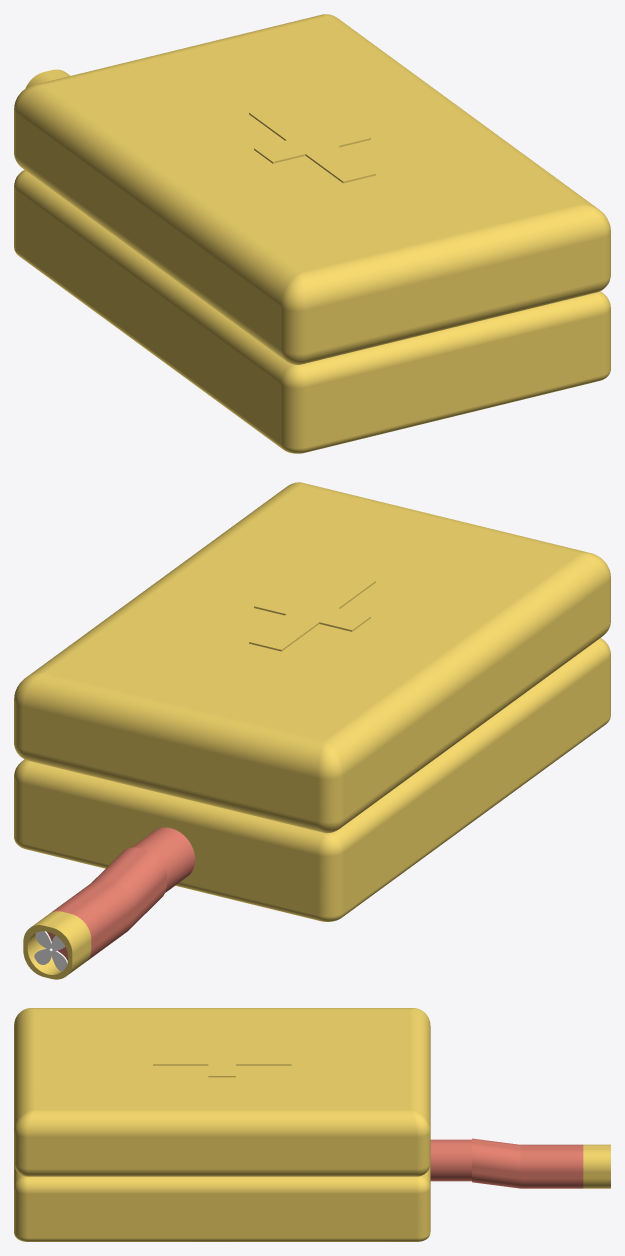
The picture shows the model from 3 angles, top to bottom: view 1: azimuth 30°, elevation 25°; view 2: azimuth 150°, elevation 25°; view 3: azimuth 270°, elevation 25°; orthographic projection. The views are drawn at different scales.
Visible parts, largest first — view 1: Body21, Body10, Body18; view 2: Body21, Body10, Body17, Body18, Body12, Body19, Body13; view 3: Body21, Body10, Body17, Body18, Body19, Body12.
Part boxes in pixels (x1,y1,x2,y2): Body21: (14,14,610,364); Body10: (14,170,610,453); Body18: (249,104,375,183); Body21: (14,482,610,833); Body10: (14,638,610,921); Body17: (47,847,166,961); Body18: (249,573,375,651); Body12: (23,911,91,979); Body19: (131,827,195,892); Body13: (34,931,67,971); Body21: (14,1008,430,1176); Body10: (14,1163,430,1241); Body17: (472,1138,583,1188); Body18: (153,1041,291,1077); Body19: (430,1139,471,1181); Body12: (583,1144,610,1188).
Size of the model in its own units: 20 by 10.1 by 43.
